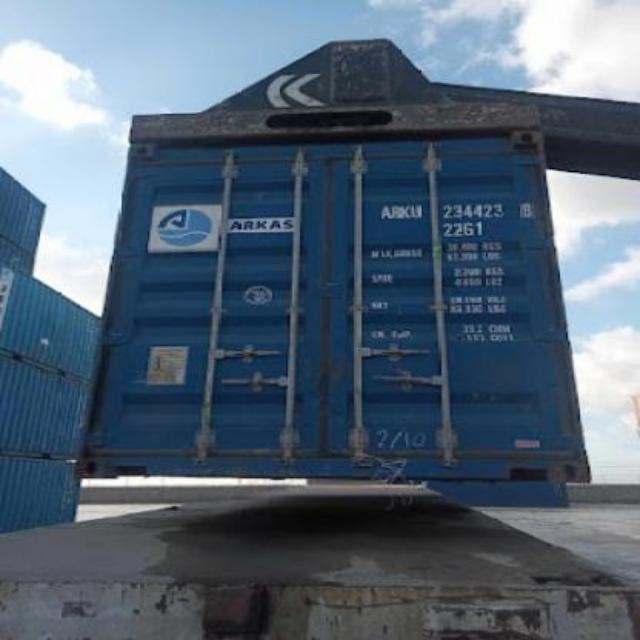2: (482, 192, 492, 228), (440, 201, 450, 219)
3: (450, 200, 462, 222), (492, 198, 502, 222)
4: (462, 200, 472, 224), (474, 196, 482, 220)
8: (516, 200, 534, 222)
A: (378, 202, 390, 222)
K: (398, 200, 408, 222)
R: (388, 201, 400, 221)
U: (408, 199, 420, 225)
